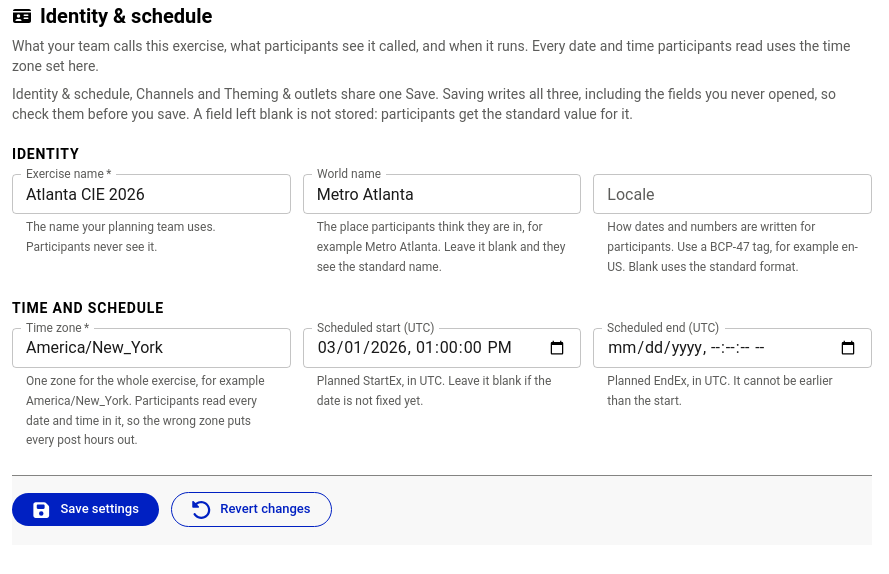
Test case: ExerciseSettingsPanel — the FULL-REPLACE round trip › announces a successful save in a status region (icon + text)
Click the button "Save settings" at (85, 510), box top-left (12, 493), bottom-right (159, 526)
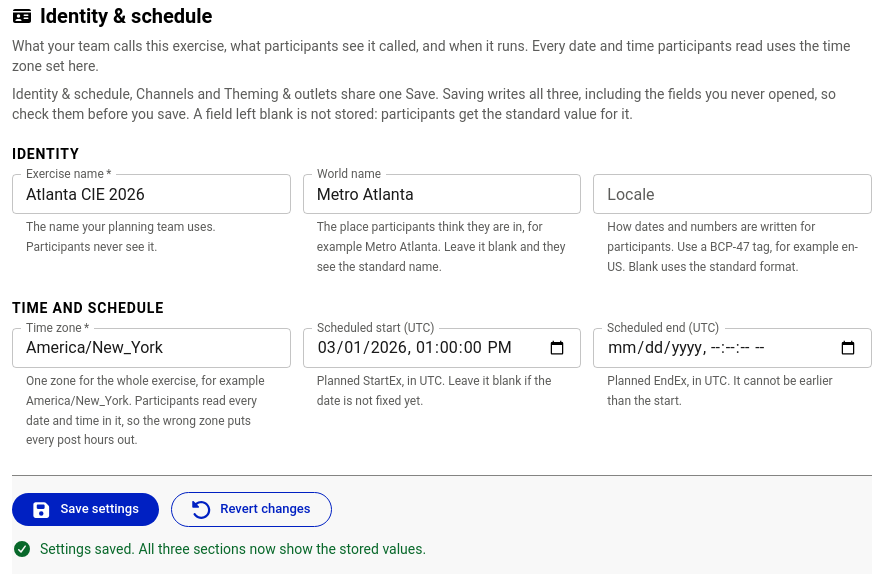
expect the 4th picture is shown: met, box top-left (12, 541), bottom-right (32, 557)
expect the message with test id "exercise-settings-saved" shows "Settings saved": met, box top-left (40, 541), bottom-right (426, 557)
